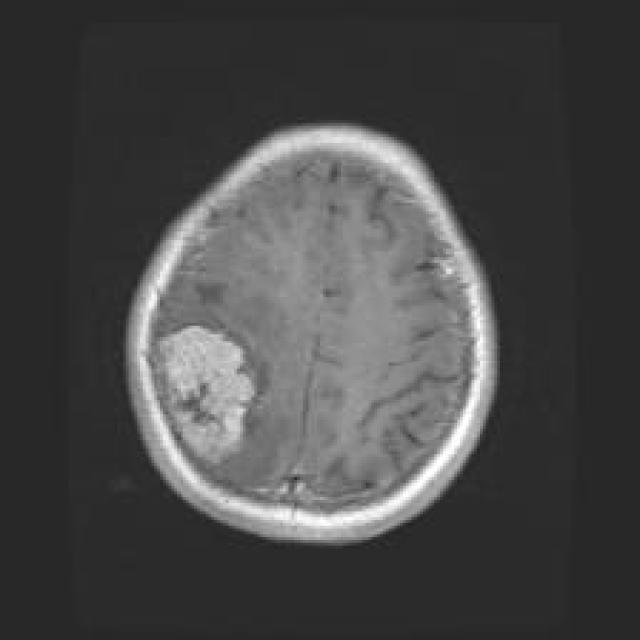meningioma_tumor: (142, 317, 266, 464)
